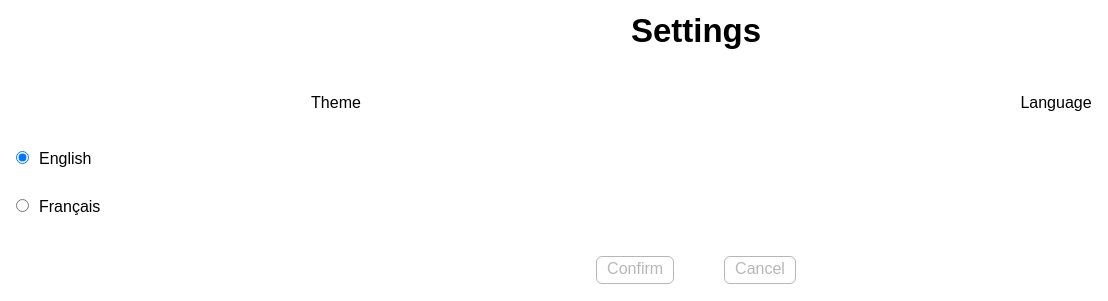
Scenario: Settings › confirm button on click for language setting
The width and height of the screenshot is (1108, 301).
Step 1. Click the text "Français" → (70, 206), box [39,198,100,215]
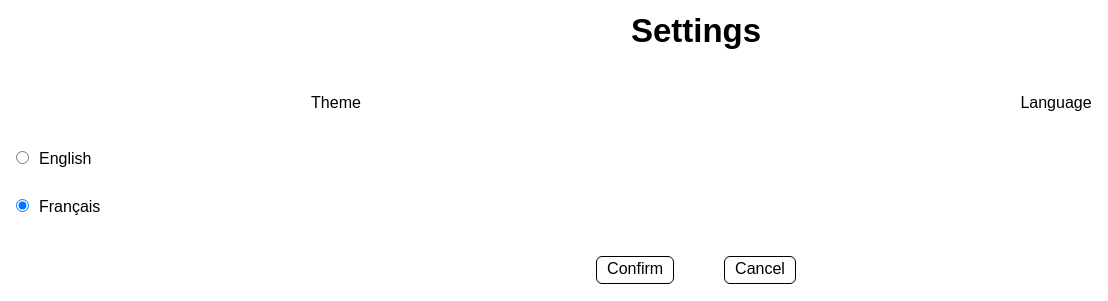
Check: the radio button labelled "Français" holds "fr", box [16,199,29,212]
Check: the radio button labelled "Français" is checked, box [16,199,29,212]
Step 2. Click the button "Confirm" → (635, 270), box [596,256,674,284]
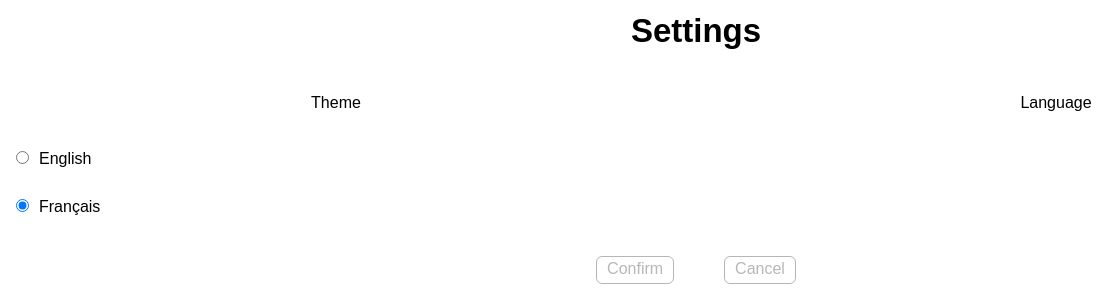
Check: the radio button labelled "Français" is checked, box [16,199,29,212]
Check: the button "Confirm" is disabled, box [596,256,674,284]
Check: the button "Cancel" is disabled, box [724,256,796,284]
